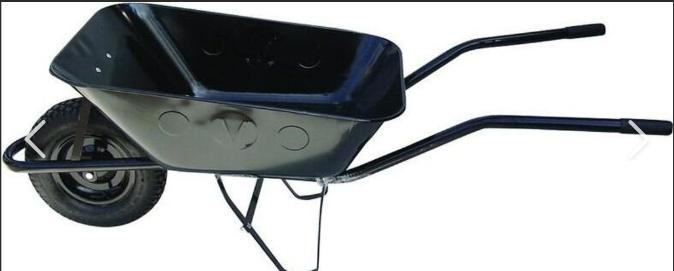BROUETTE: (0, 2, 674, 271)
